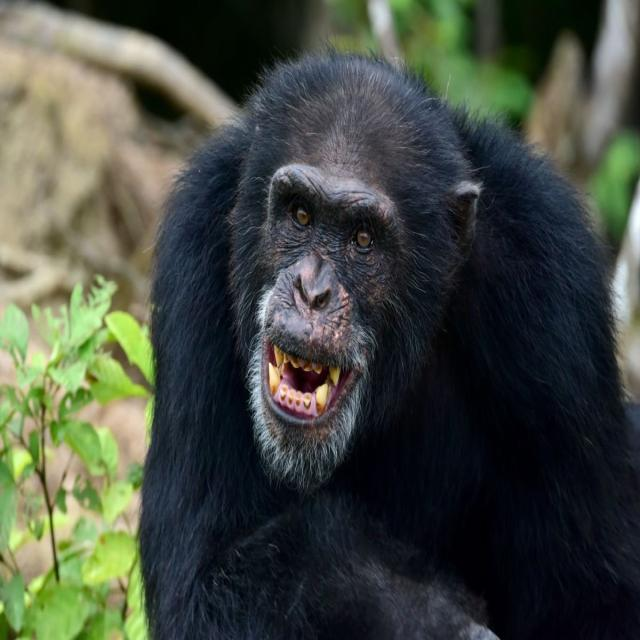Chimpanzee: (151, 58, 640, 640)
